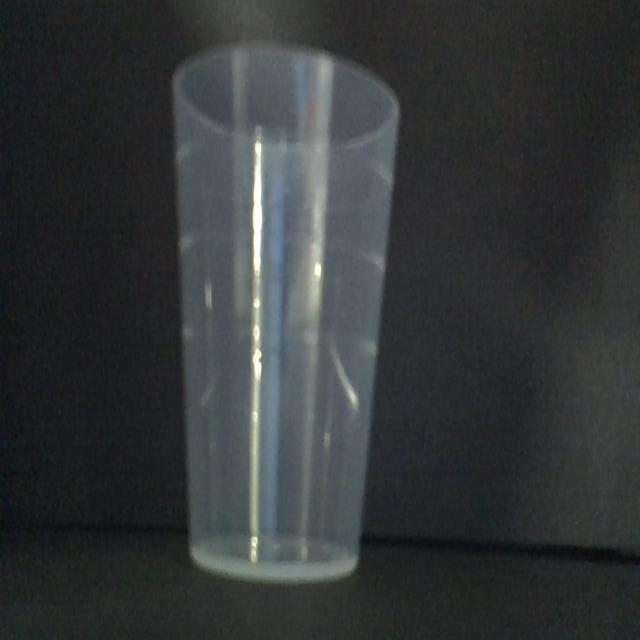cup: (170, 38, 404, 588)
